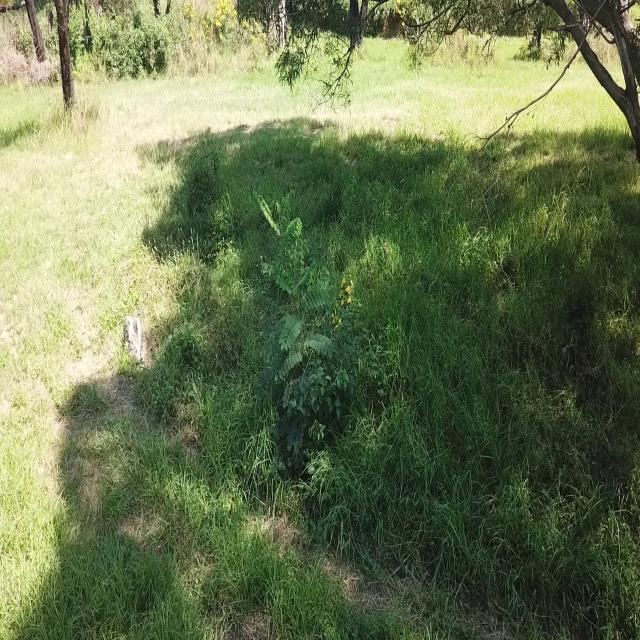Mysore-Thorn-Weed: (248, 177, 342, 457)
